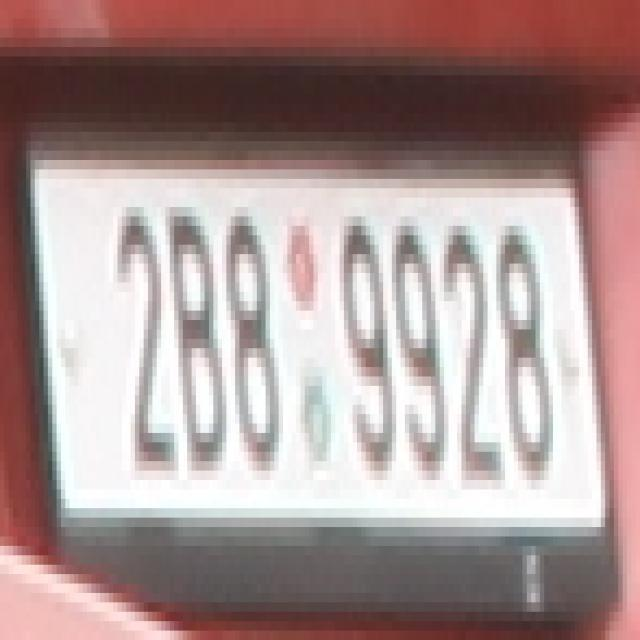2: (104, 207, 170, 471), (439, 216, 496, 489)
8: (500, 216, 558, 489), (226, 188, 278, 480)
9: (330, 216, 388, 480), (388, 216, 440, 489)
B: (170, 207, 227, 461)
